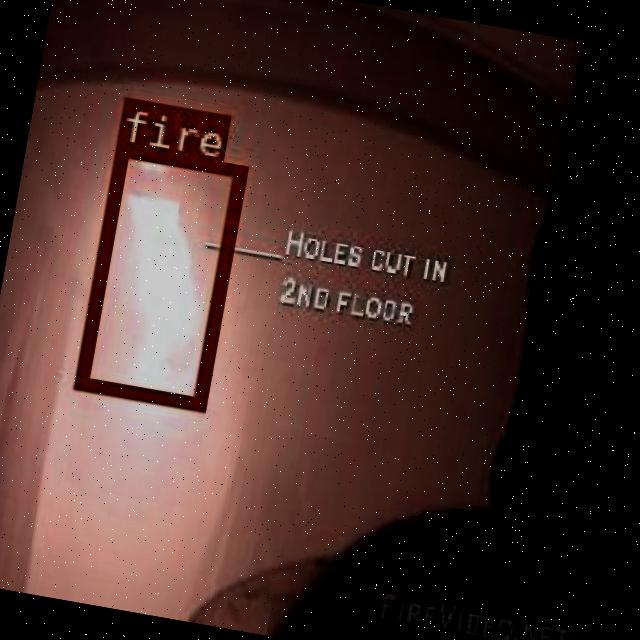fire: (72, 140, 244, 408)
